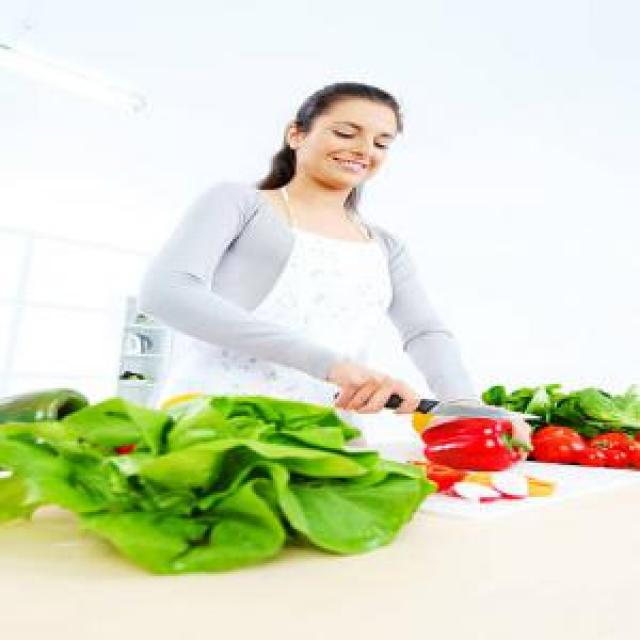knife: (333, 395, 543, 422)
